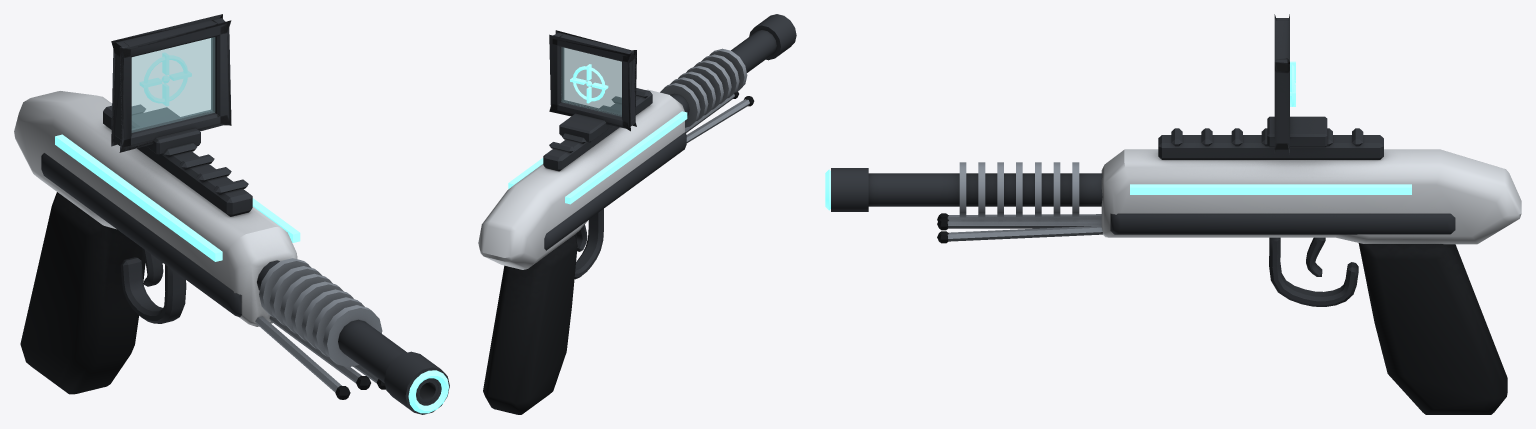
The model's file is laser_precision.fbx.
3 renders of one model, left to right at view 1: azimuth 30°, elevation 25°; view 2: azimuth 150°, elevation 25°; view 3: azimuth 270°, elevation 25°, orthographic. The views are drawn at different scales.
Visible parts, largest first — view 1: LaserPrecision_Cuerpo, LaserPrecision_Grip, LaserPrecision_Canon, LaserPrecision_Mira, LaserPrecision_Cristal, LaserPrecision_Neon_02, LaserPrecision_Estabilizador, LaserPrecision_Neon_01, LaserPrecision_Neon_03; view 2: LaserPrecision_Cuerpo, LaserPrecision_Grip, LaserPrecision_Canon, LaserPrecision_Mira, LaserPrecision_Cristal, LaserPrecision_Neon_02, LaserPrecision_Estabilizador, LaserPrecision_Neon_01; view 3: LaserPrecision_Cuerpo, LaserPrecision_Grip, LaserPrecision_Canon, LaserPrecision_Estabilizador, LaserPrecision_Mira, LaserPrecision_Neon_02.
Boxes of the visible parts, x1,y1,x2,y2 form: LaserPrecision_Cuerpo: [14, 91, 297, 326]; LaserPrecision_Grip: [20, 192, 186, 394]; LaserPrecision_Canon: [257, 258, 449, 414]; LaserPrecision_Mira: [111, 14, 231, 155]; LaserPrecision_Cristal: [131, 37, 214, 132]; LaserPrecision_Neon_02: [55, 134, 300, 261]; LaserPrecision_Estabilizador: [255, 316, 385, 399]; LaserPrecision_Neon_01: [140, 52, 191, 105]; LaserPrecision_Neon_03: [408, 370, 448, 413]; LaserPrecision_Cuerpo: [478, 88, 686, 269]; LaserPrecision_Grip: [483, 209, 603, 414]; LaserPrecision_Canon: [660, 14, 796, 127]; LaserPrecision_Mira: [549, 30, 636, 142]; LaserPrecision_Cristal: [561, 47, 621, 116]; LaserPrecision_Neon_02: [508, 111, 687, 204]; LaserPrecision_Estabilizador: [685, 91, 754, 142]; LaserPrecision_Neon_01: [570, 64, 608, 103]; LaserPrecision_Cuerpo: [1101, 128, 1521, 244]; LaserPrecision_Grip: [1269, 237, 1507, 414]; LaserPrecision_Canon: [831, 162, 1102, 217]; LaserPrecision_Estabilizador: [937, 213, 1102, 243]; LaserPrecision_Mira: [1267, 14, 1327, 154]; LaserPrecision_Neon_02: [1130, 184, 1411, 194].
Size of the model in its own units: 0.0846 by 0.3041 by 0.5184.
5 materials, 1 textured.
